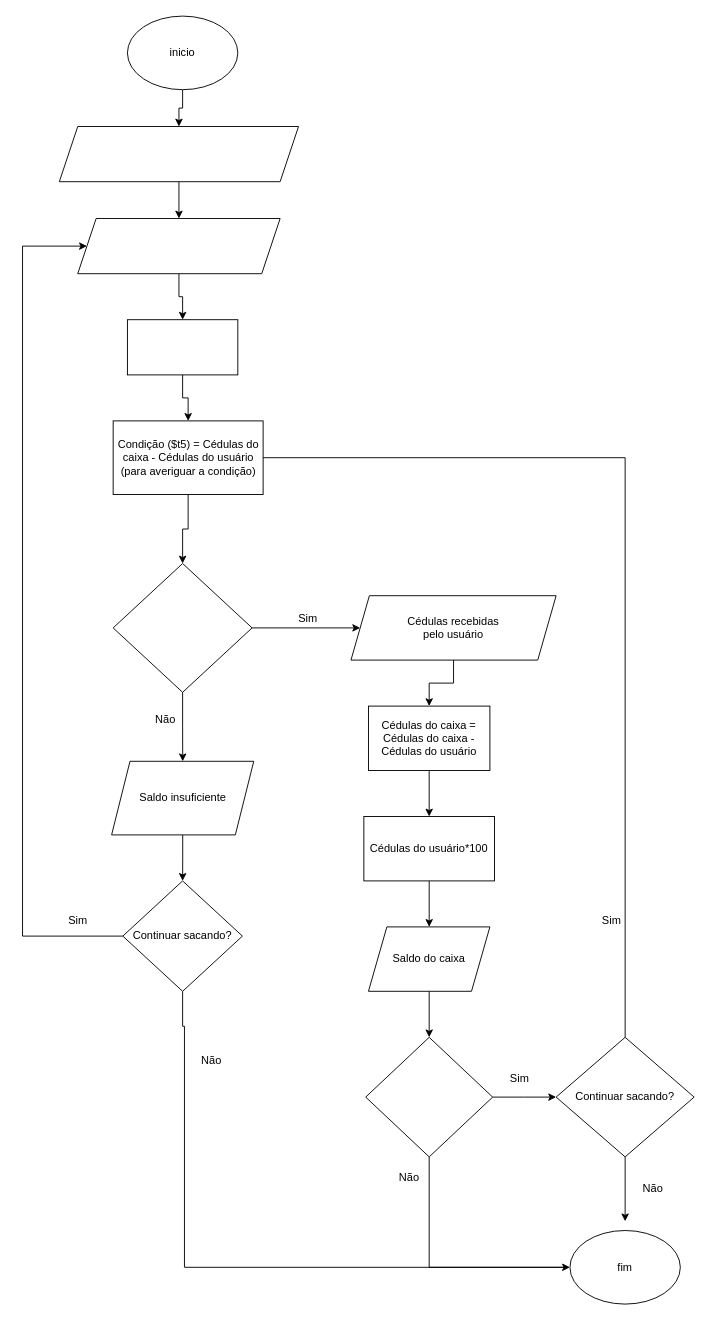
This 710x1320 diagram has some shape labels left out. The centre of each missing label's shape, as x and y in pixels:
"Condição>=0" belongs at pixel 182 627.
"Cédulas do usuário = Saque/100" belongs at pixel 182 347.
"Digite o valor do saque." belongs at pixel 178 246.
"Informe o número de cédulas do caixa" belongs at pixel 178 154.
"Saldo>0" belongs at pixel 429 1096.
